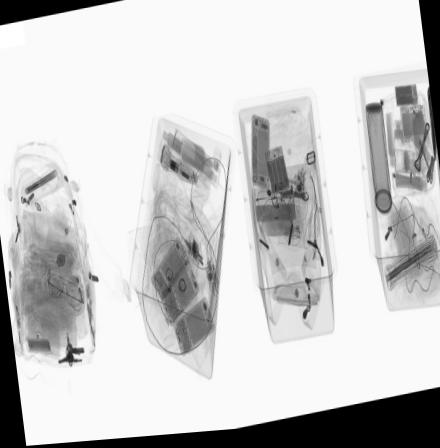Powerbank: (263, 148, 292, 209)
